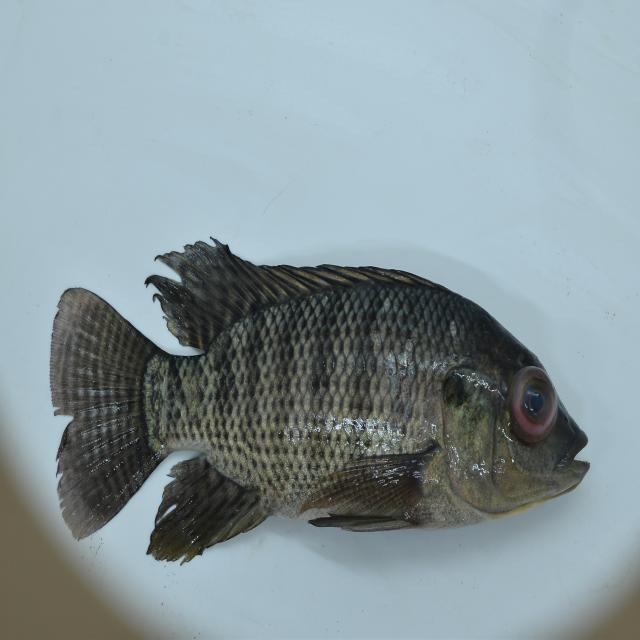streptococcus Disease: (43, 240, 591, 562)
